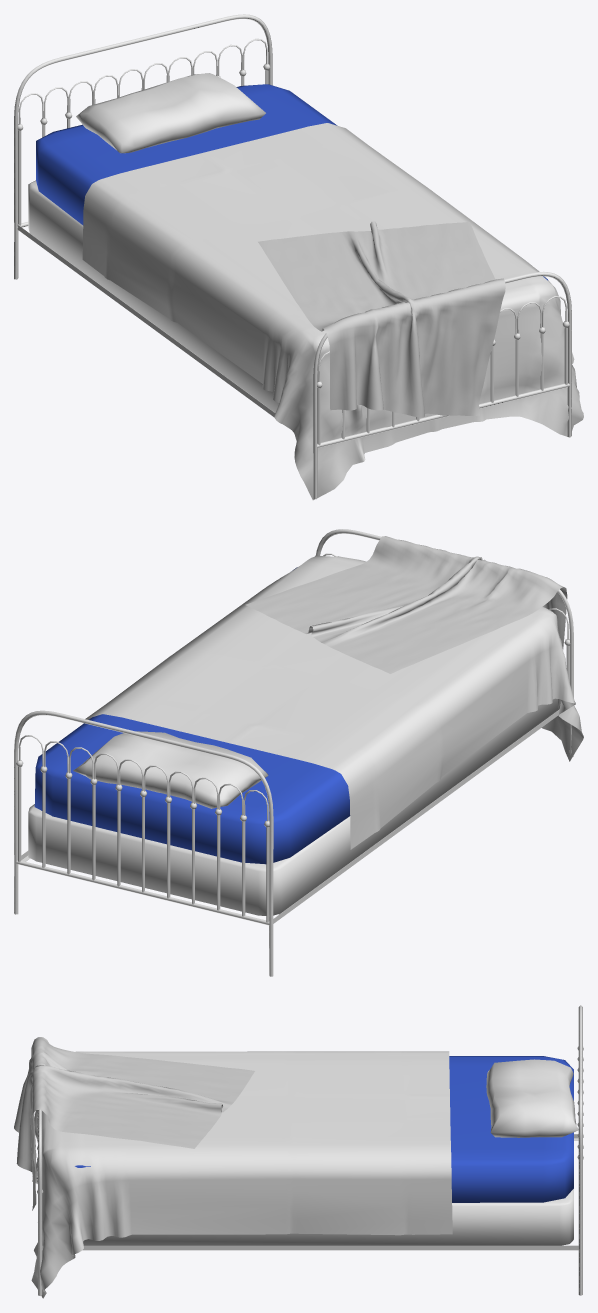
The model's file is GirlsBed.fbx.
3 renders of one model, top to bottom at view 1: azimuth 30°, elevation 25°; view 2: azimuth 150°, elevation 25°; view 3: azimuth 270°, elevation 25°, orthographic. The views are drawn at different scales.
Visible parts, largest first — view 1: Plane, Throw, Mattress, Frame, Pillow, BoxSupport; view 2: Plane, Throw, Mattress, BoxSupport, Frame, Pillow; view 3: Plane, Throw, Mattress, BoxSupport, Pillow, Frame.
Boxes of the visible parts, x1,y1,x2,y2 form: Plane: [82, 123, 583, 500]; Throw: [258, 221, 505, 417]; Mattress: [36, 84, 547, 280]; Frame: [14, 14, 571, 499]; Pillow: [76, 73, 265, 153]; BoxSupport: [28, 180, 279, 412]; Plane: [85, 555, 583, 849]; Throw: [245, 536, 567, 673]; Mattress: [34, 567, 350, 864]; BoxSupport: [28, 698, 559, 915]; Frame: [14, 529, 573, 976]; Pillow: [73, 731, 268, 808]; Plane: [31, 1051, 452, 1298]; Throw: [14, 1037, 254, 1210]; Mattress: [75, 1056, 573, 1202]; BoxSupport: [83, 1189, 573, 1245]; Pillow: [486, 1059, 578, 1137]; Frame: [37, 1005, 583, 1295].
Size of the model in its own units: 191 by 131 by 348.
